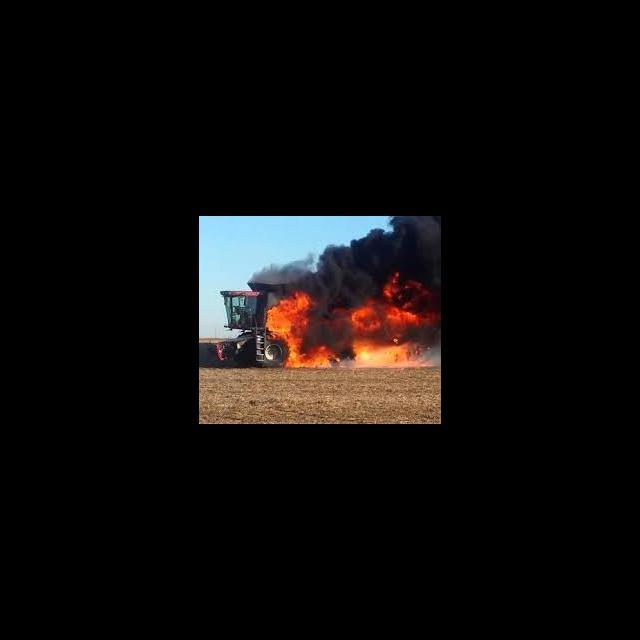Fire: (349, 272, 438, 368), (264, 292, 334, 372)
